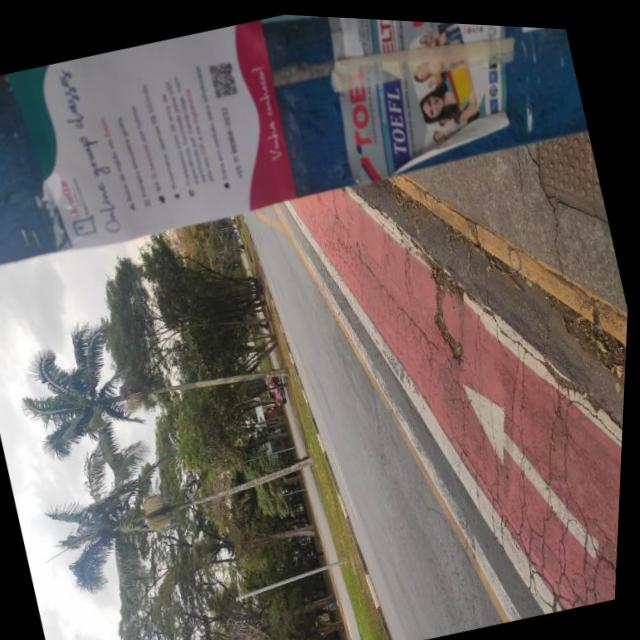qrcode: (209, 58, 240, 96)
